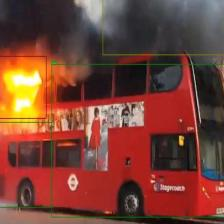fire: (0, 56, 46, 118)
smoke: (102, 0, 224, 55)
